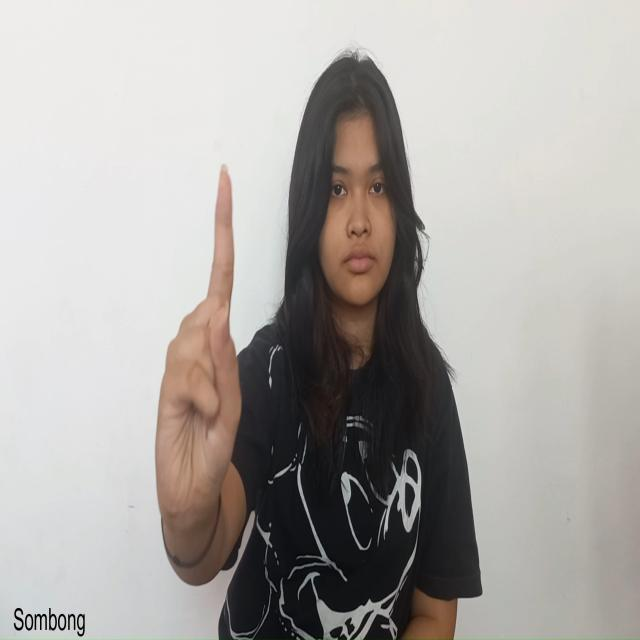Sombong -BISINDO-: (154, 162, 242, 522)
